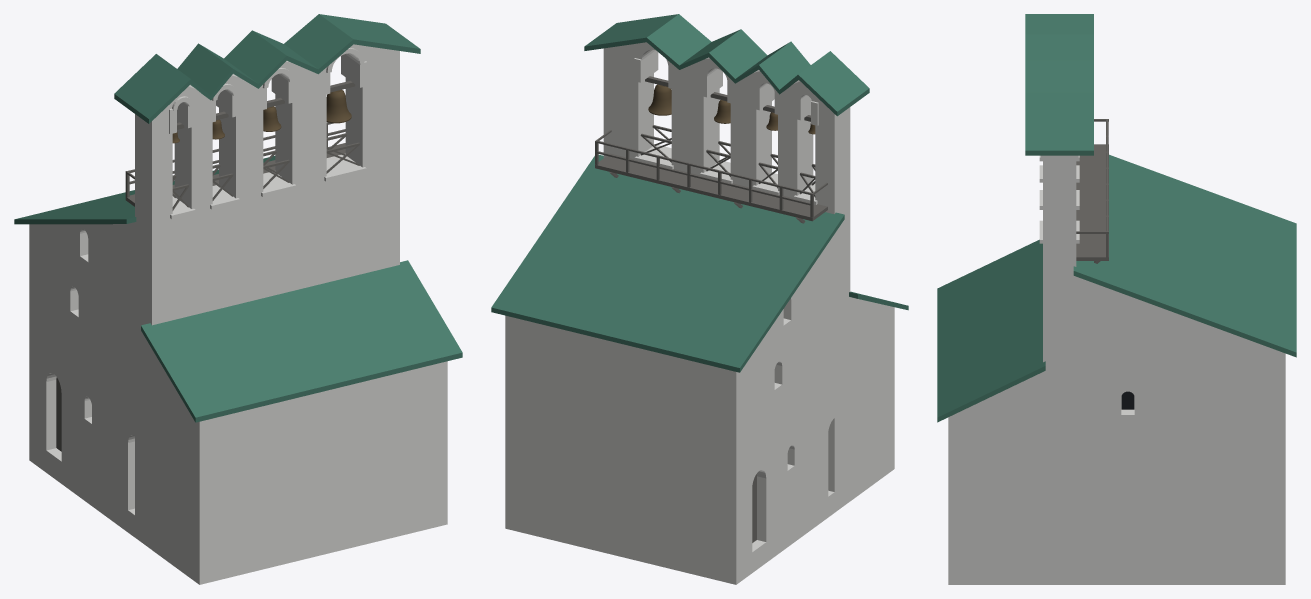
File: SM_BogoyavlenieBelfry.glb
The picture shows the model from 3 angles, left to right: view 1: azimuth 30°, elevation 25°; view 2: azimuth 150°, elevation 25°; view 3: azimuth 270°, elevation 25°; orthographic projection. The views are drawn at different scales.
Visible parts, largest first — view 1: SM_BogoyavlenieBelfry; view 2: SM_BogoyavlenieBelfry; view 3: SM_BogoyavlenieBelfry.
Part boxes in pixels (x1,y1,x2,y2): SM_BogoyavlenieBelfry: (14, 14, 462, 584); SM_BogoyavlenieBelfry: (491, 14, 908, 584); SM_BogoyavlenieBelfry: (937, 14, 1296, 584).
Size of the model in its own units: 11.43 by 18.9 by 13.21.
